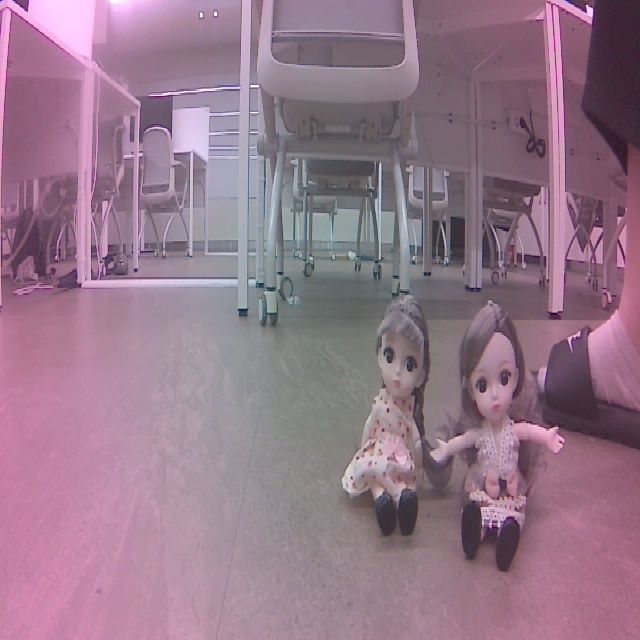장애물: (339, 294, 452, 547)
